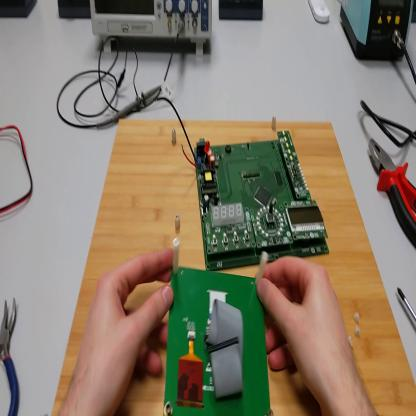hand: (71, 247, 176, 416), (257, 255, 356, 401)
low voltage board: (155, 93, 330, 274)
oscilloscope: (91, 1, 213, 61)
oscilloscope probe tip: (97, 87, 160, 127)
pliers: (368, 137, 416, 246), (2, 296, 23, 416)
screwdriver-: (398, 288, 416, 319)
socket: (1, 2, 39, 20), (58, 1, 91, 19), (410, 3, 416, 25)
welder station: (341, 3, 414, 69)
working area: (52, 118, 416, 415)
